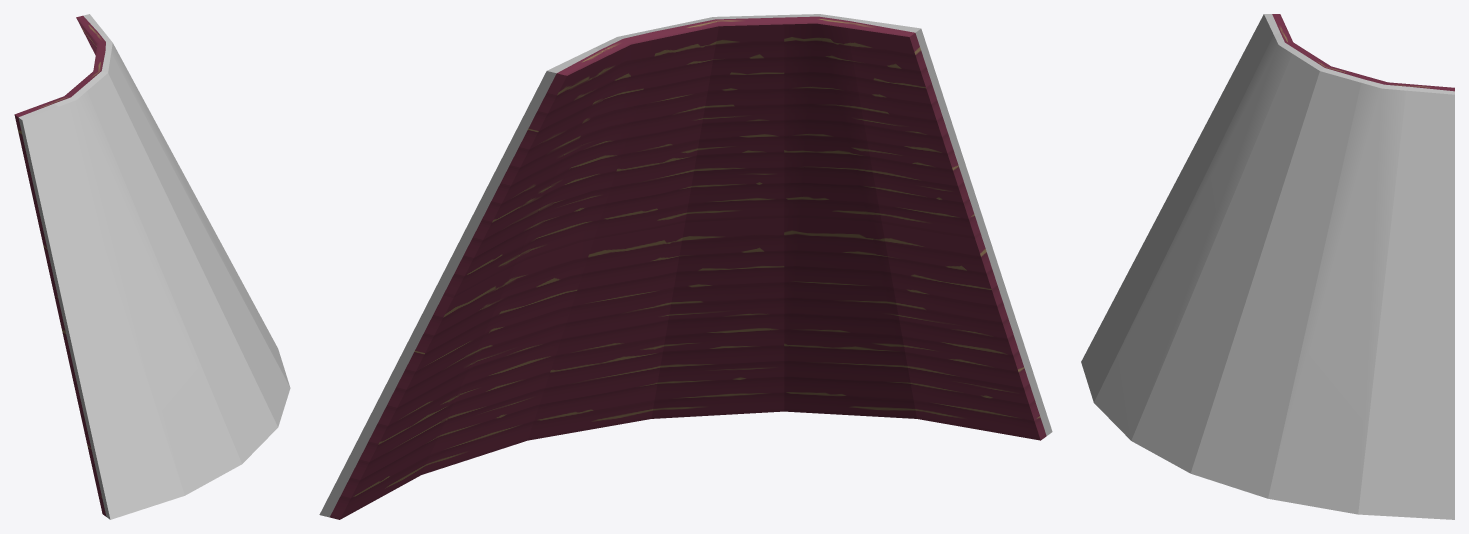
Rendered from SM_Bld_Wall_Curved_L_Transition_01.fbx.
The picture shows the model from 3 angles, left to right: view 1: azimuth 30°, elevation 25°; view 2: azimuth 150°, elevation 25°; view 3: azimuth 270°, elevation 25°; orthographic projection. The views are drawn at different scales.
Visible parts, largest first — view 1: SM_Bld_Wall_Curved_L_Transition_01; view 2: SM_Bld_Wall_Curved_L_Transition_01; view 3: SM_Bld_Wall_Curved_L_Transition_01.
Part boxes in pixels (x1=…): SM_Bld_Wall_Curved_L_Transition_01: x1=14, y1=14, x2=290, y2=519; SM_Bld_Wall_Curved_L_Transition_01: x1=319, y1=14, x2=1052, y2=519; SM_Bld_Wall_Curved_L_Transition_01: x1=1081, y1=14, x2=1454, y2=519.
Size of the model in its own units: 511 by 527 by 511.
